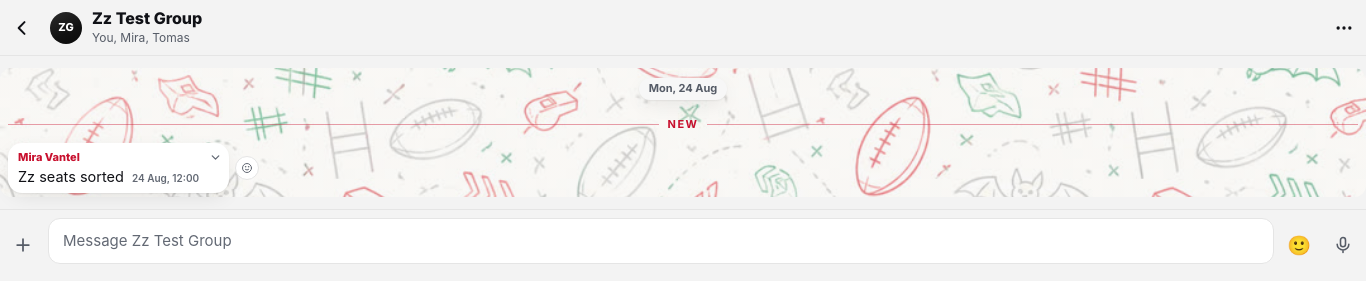
Test: a group thread › a non-owner gets Leave but not Rename
Expected: the heading "Zz Test Group" is shown, [92,8,202,28]
Click the button named "Chat options" at (1344, 28), box [1326,10,1362,46]
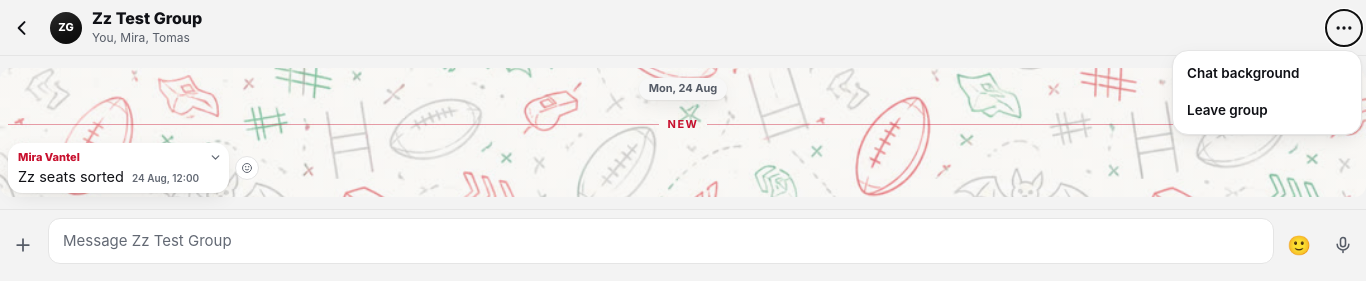
Now the menu item "Leave group" is shown, box [1173,92,1361,130]
